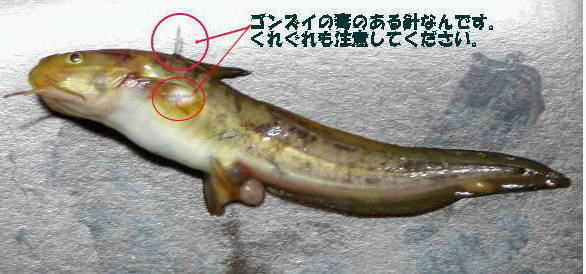gonzui: (32, 33, 585, 235)
